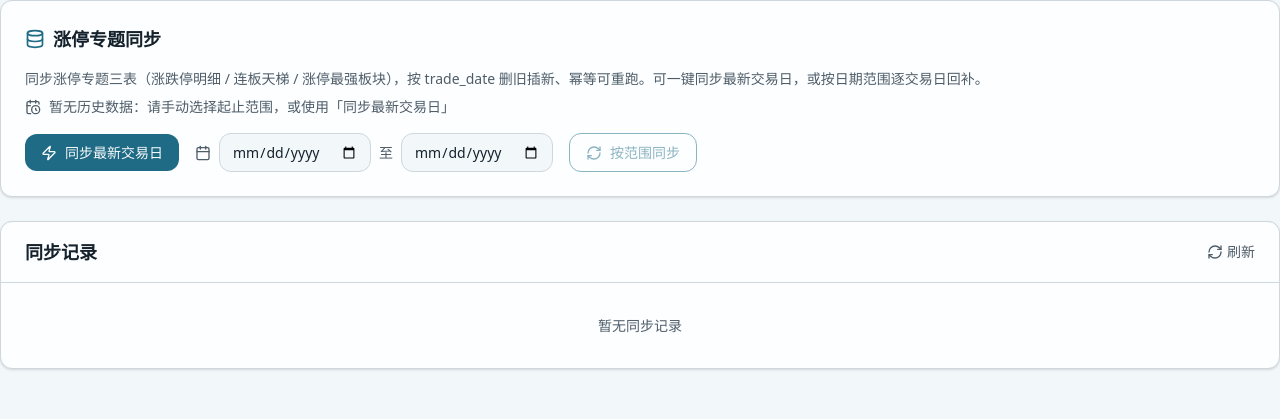
Test case: LimitSyncPanel › 创建调用与互斥 › 后端互斥拒绝（success=false 抛错）：展示返回 message
The image size is (1280, 419).
Click the button with test id "limit-sync-latest-button" at (102, 152), box [25, 134, 179, 171]
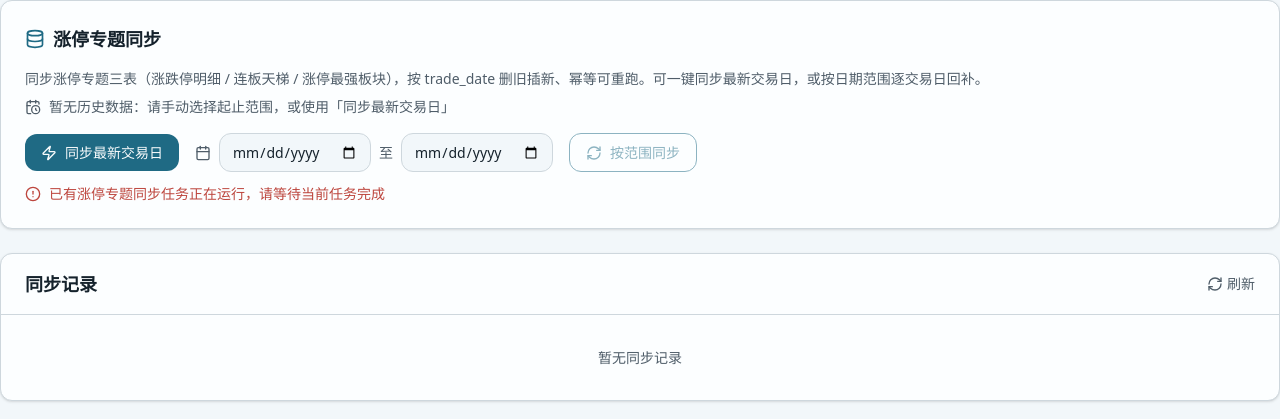
Now the element with test id "limit-sync-validation-error" reads "已有涨停专题同步任务正在运行，请等待当前任务完成", box [49, 184, 385, 203]
